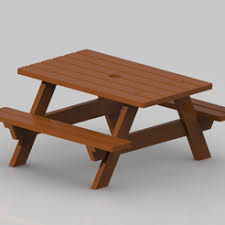obstacle: (1, 49, 222, 189)
